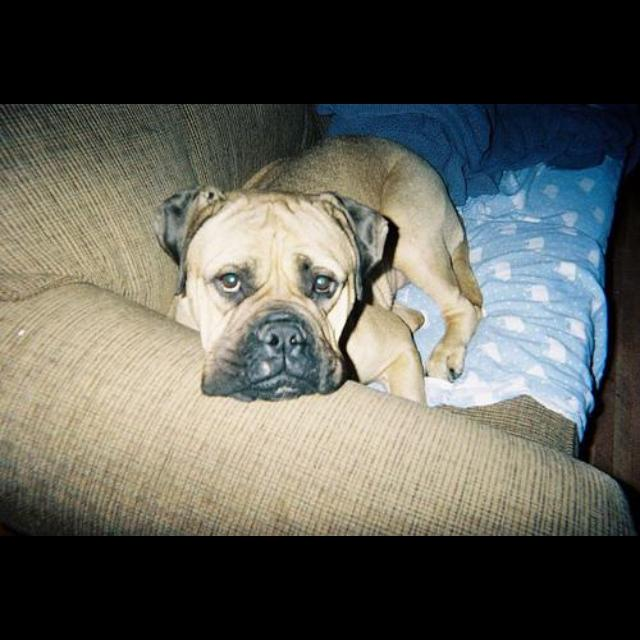bullmastiff: (156, 135, 486, 407)
